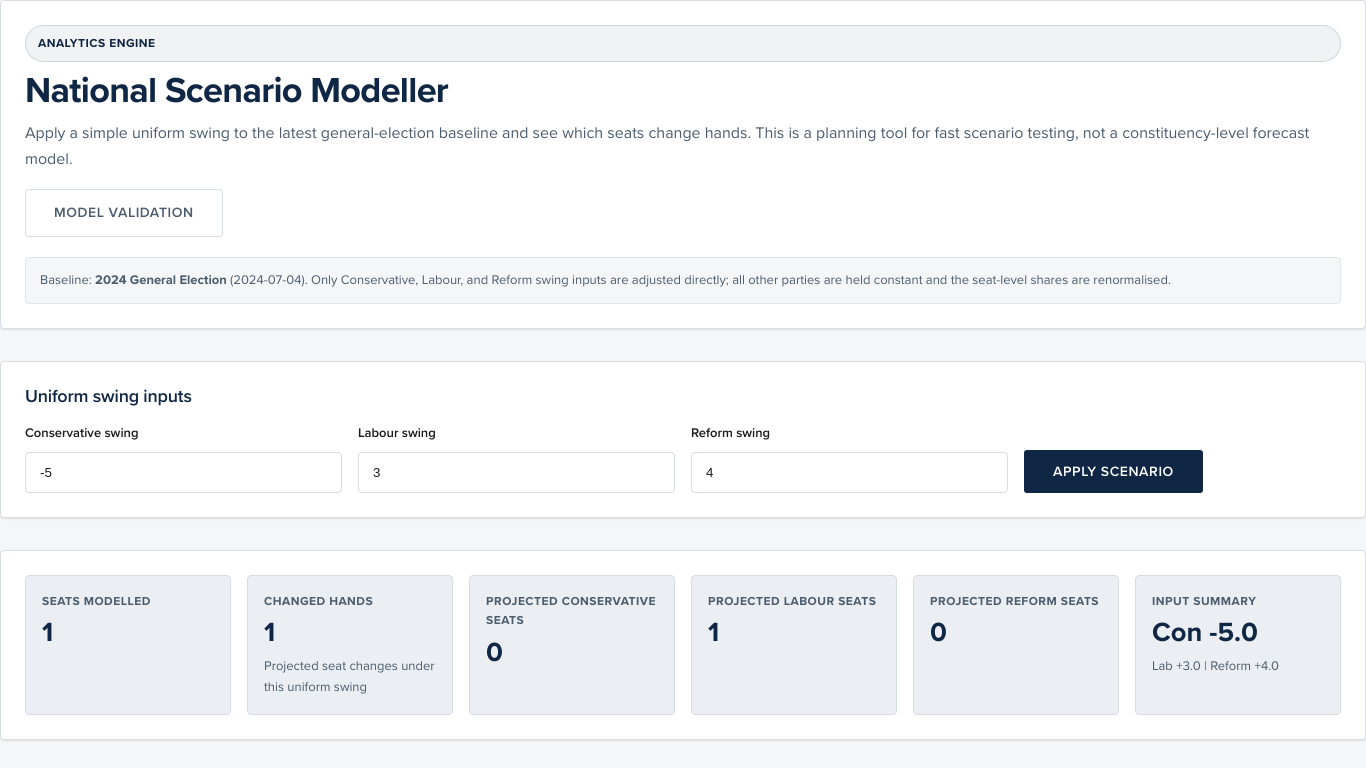
it: ScenarioPage › recomputes when the user applies a new swing
Expected: the heading "National Scenario Modeller" is shown, [25,69,448,113]
Replace the text in the number field labelled "Conservative swing" with "-10" at (184, 473), box [25,452,342,493]
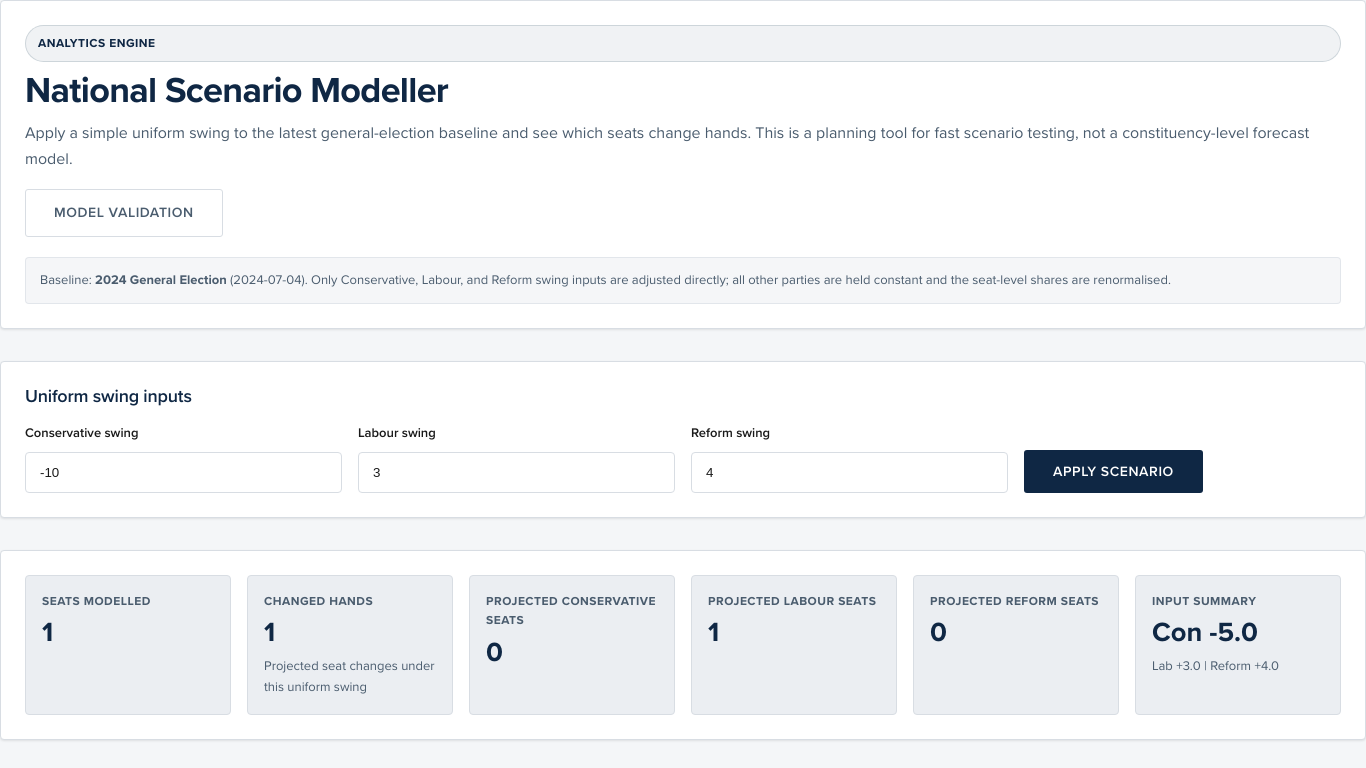
Click the button "Apply scenario" at (1113, 472), box [1024,450,1203,493]
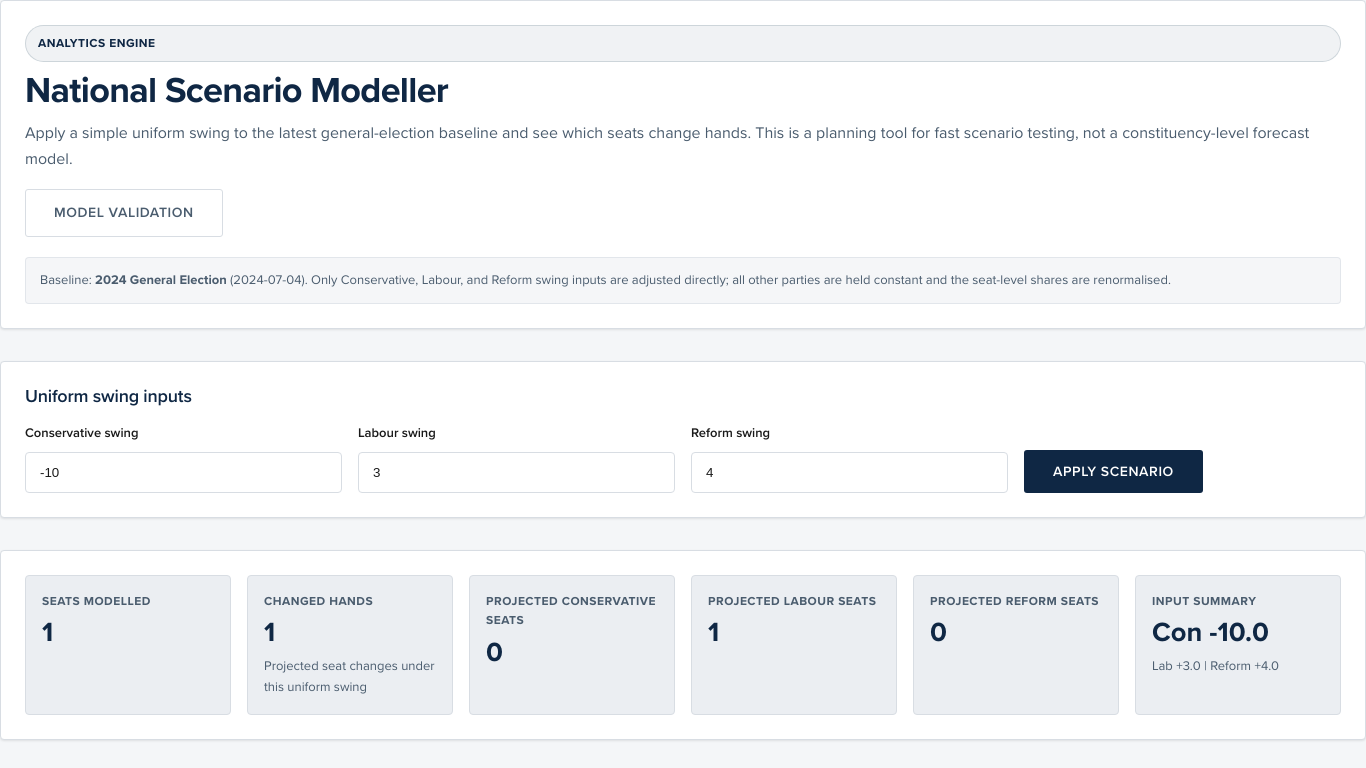
Expected: the text "Con -10.0" is shown, [1152,616,1269,649]
